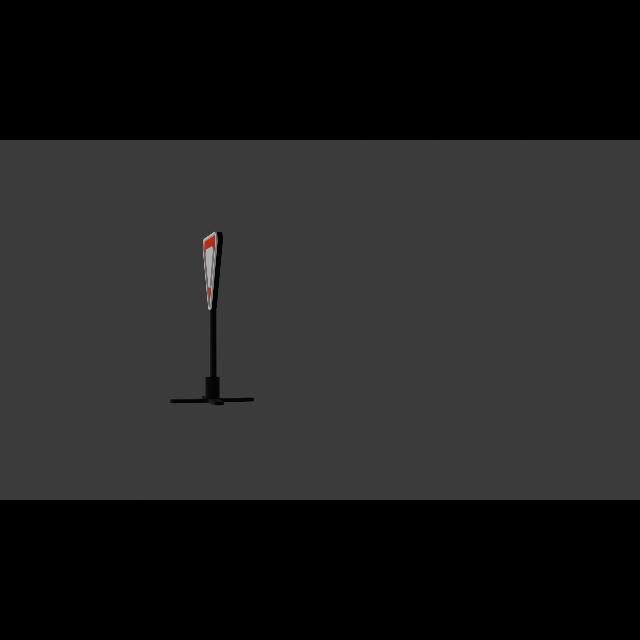sign_yield: (201, 231, 222, 313)
